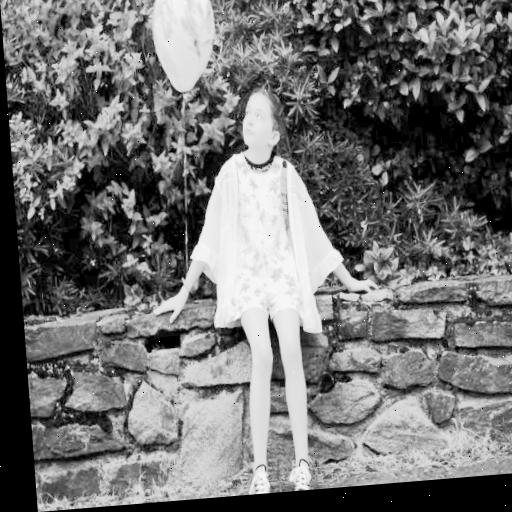balloon: (146, 0, 220, 94)
